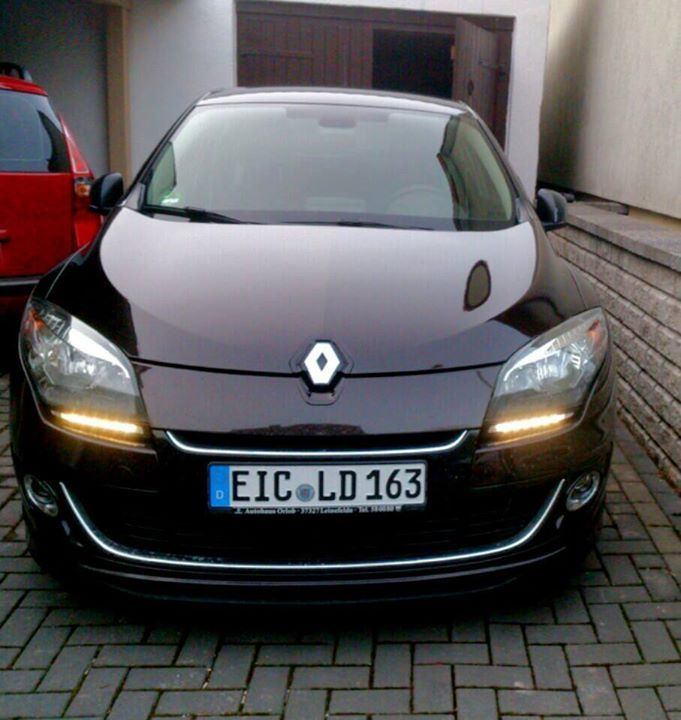plate: (212, 462, 428, 513)
